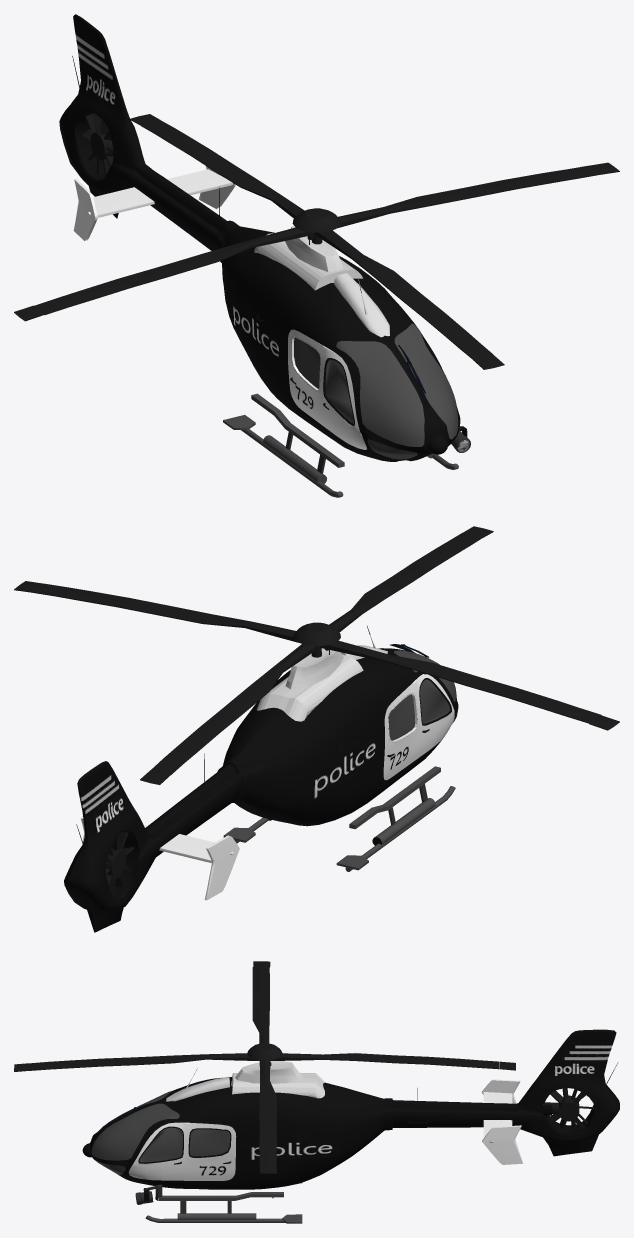
File: police-helicopter.glb
3 views of the same model, one above another, from view 1: azimuth 30°, elevation 25°; view 2: azimuth 150°, elevation 25°; view 3: azimuth 270°, elevation 25° (orthographic). The views are drawn at different scales.
Visible parts, largest first — view 1: body_body_0, rotor_body_0, tail_body_0; view 2: body_body_0, rotor_body_0, tail_body_0; view 3: body_body_0, rotor_body_0, tail_body_0.
Boxes of the visible parts, box(x1,y1,x2,y2) form: body_body_0: box(59, 14, 470, 497); rotor_body_0: box(14, 114, 619, 369); tail_body_0: box(82, 113, 113, 176); body_body_0: box(64, 622, 458, 932); rotor_body_0: box(14, 526, 619, 784); tail_body_0: box(106, 832, 133, 895); body_body_0: box(82, 1029, 619, 1223); rotor_body_0: box(14, 961, 515, 1173); tail_body_0: box(544, 1088, 594, 1130).
Size of the model in its own units: 2.07 by 0.7882 by 2.5.
Materials: 1 (1 with a texture image).
